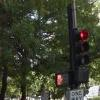Tree: (2, 0, 66, 80)
